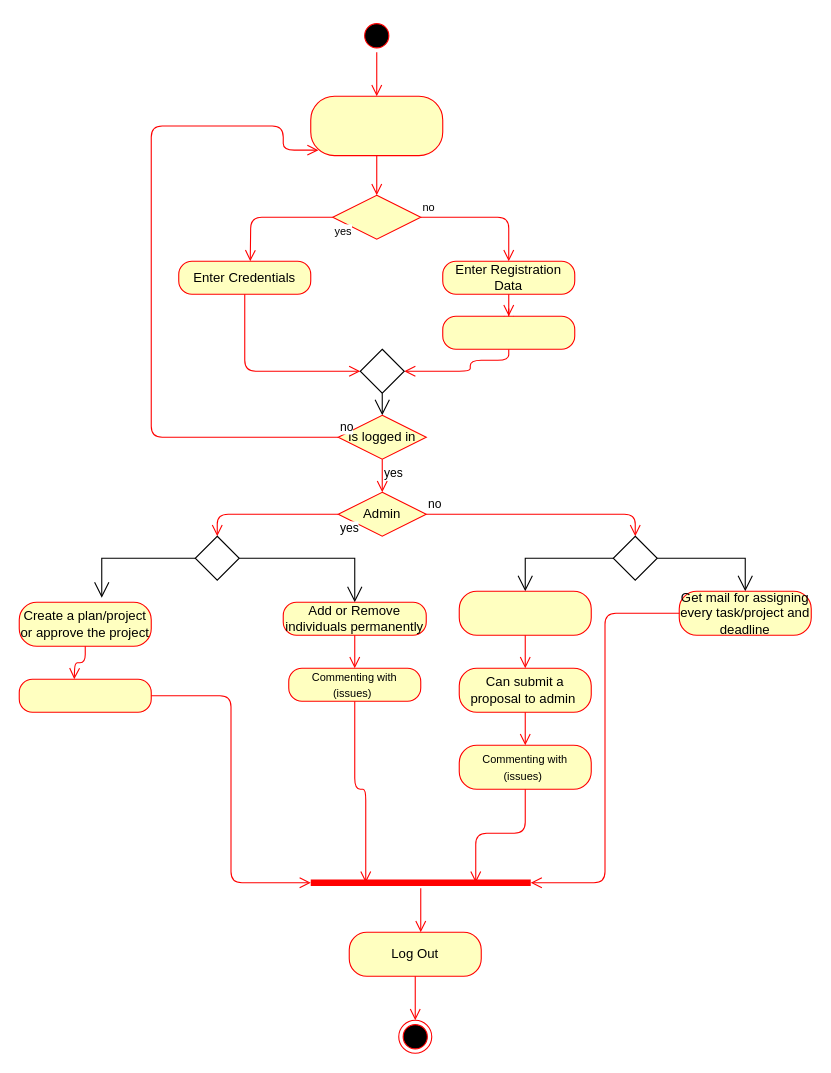
The diagram is 831 pixels wide and 1073 high, and some of its shapes have lost their labels. Here are the shapes that lost their labels. From the top down, the centre of each, then its label:
the point at 376,125: Register or Login Page
the point at 376,216: Is Registered
the point at 508,332: Registration Confirmation
the point at 524,612: Can see projects/ task boards/ tasks card he got assigned into
the point at 84,695: Fixes deadline for the tasks
